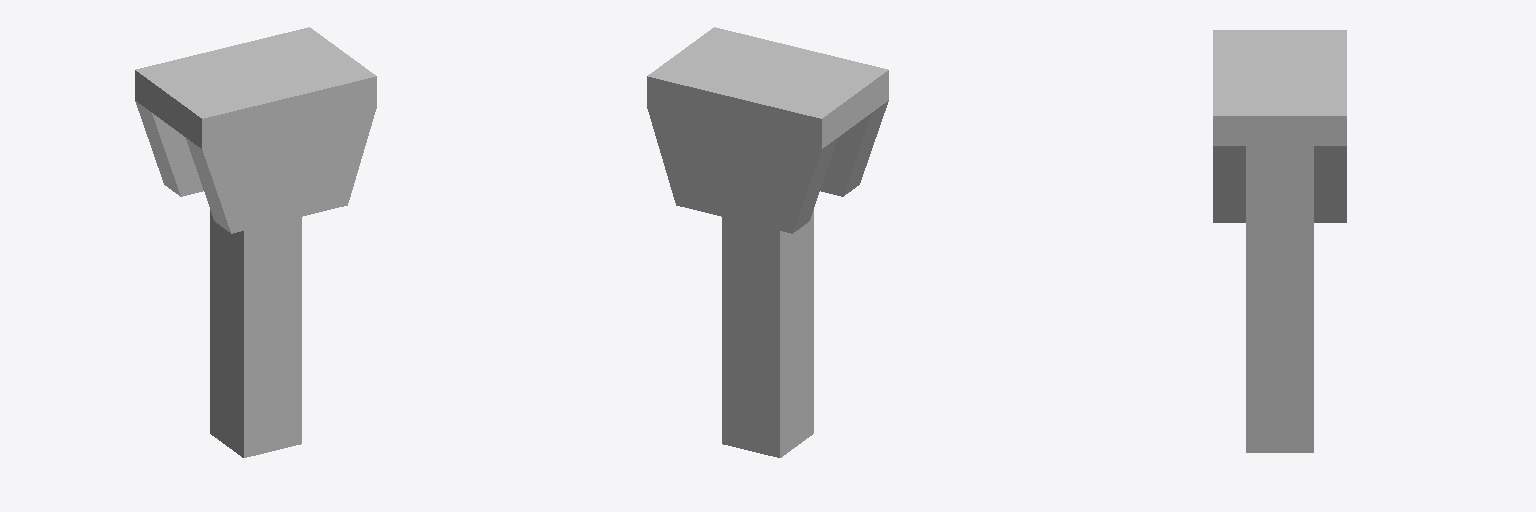
The model's file is block_caboosestyle.obj.
3 renders of one model, left to right at view 1: azimuth 30°, elevation 25°; view 2: azimuth 150°, elevation 25°; view 3: azimuth 270°, elevation 25°, orthographic.
Visible parts, largest first — view 1: cub1e, cub2e, cub4e, cu3be; view 2: cub1e, cub2e, cu3be, cub4e; view 3: cub1e, cub2e, cub4e, cu3be.
Part boxes in pixels (x1,y1,x2,y2): cub1e: (210, 210, 301, 457); cub2e: (135, 27, 376, 148); cub4e: (186, 107, 376, 233); cu3be: (135, 101, 203, 196); cub1e: (722, 210, 813, 457); cub2e: (647, 27, 888, 148); cu3be: (647, 107, 837, 233); cub4e: (820, 101, 888, 196); cub1e: (1246, 146, 1313, 452); cub2e: (1213, 30, 1346, 145); cub4e: (1213, 146, 1245, 222); cu3be: (1314, 146, 1346, 222).
Bounding box in the file's own units: 0.375 × 0.75 × 0.25.